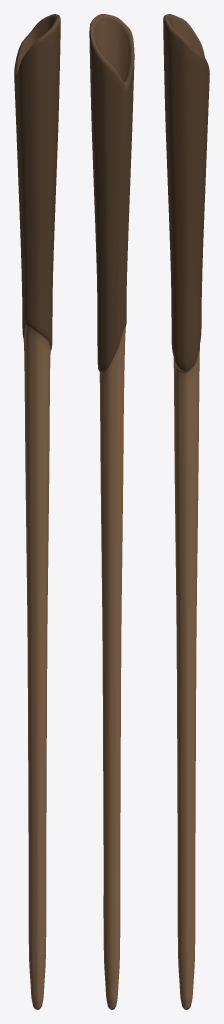
The model's file is Wooden_Wand_Mesh.fbx.
The picture shows the model from 3 angles, left to right: view 1: azimuth 90°, elevation 25°; view 2: azimuth 210°, elevation 25°; view 3: azimuth 270°, elevation 25°; orthographic projection.
Parts seen in each view (by area): view 1: Wooden_Wand_Mesh; view 2: Wooden_Wand_Mesh; view 3: Wooden_Wand_Mesh.
Part boxes in pixels (<box>): Wooden_Wand_Mesh: <box>14,14,60,1009</box>; Wooden_Wand_Mesh: <box>89,14,134,1009</box>; Wooden_Wand_Mesh: <box>163,14,209,1009</box>.
Bounding box in the file's own units: 1.41 × 33.35 × 1.42.
